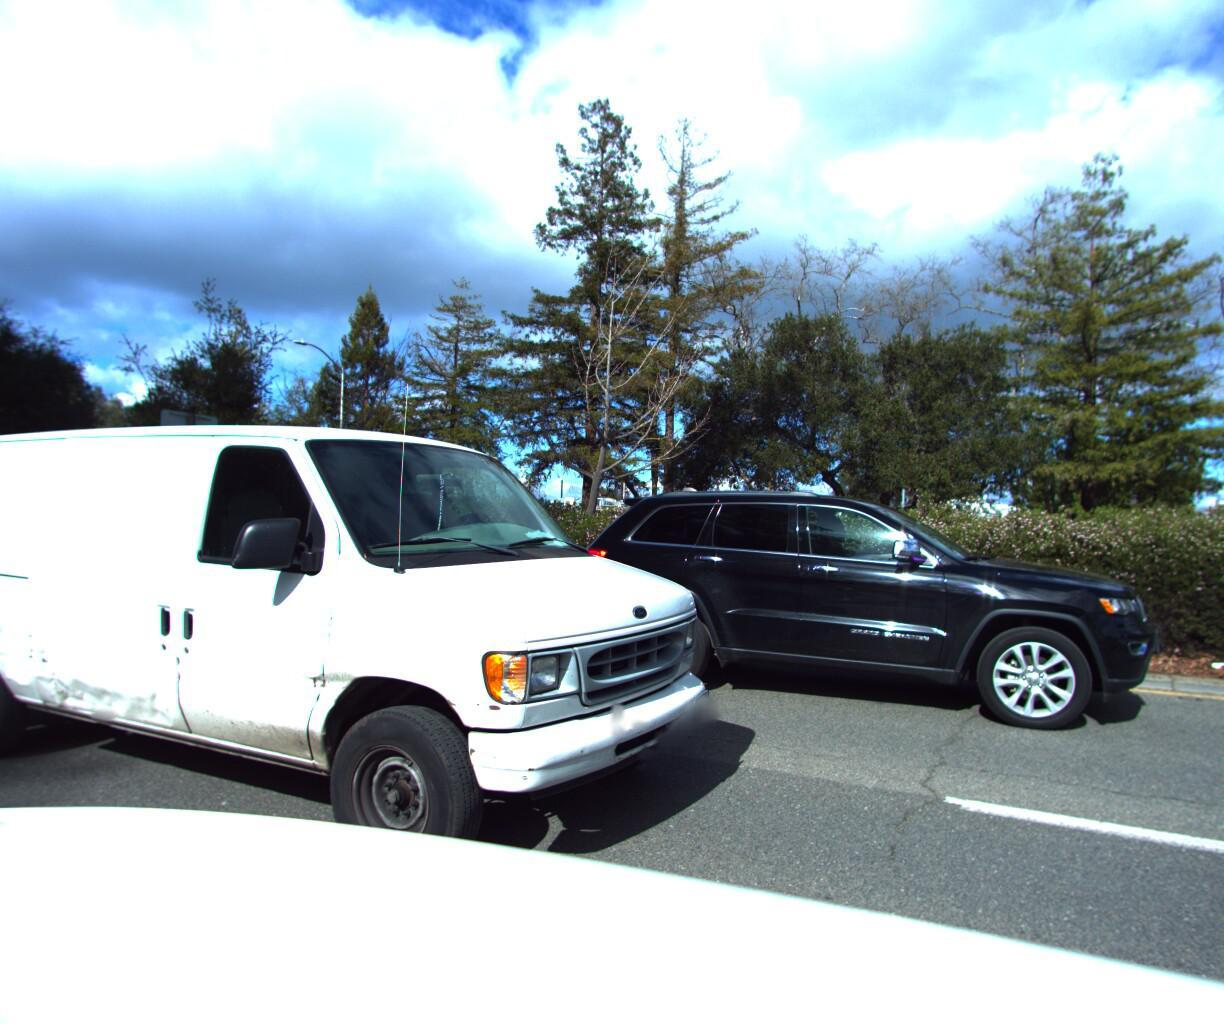car: (0, 351, 753, 950), (551, 479, 1151, 741)
